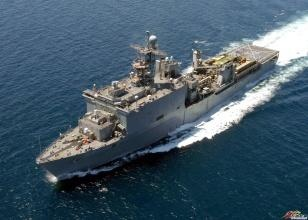warship: (34, 32, 280, 179)
